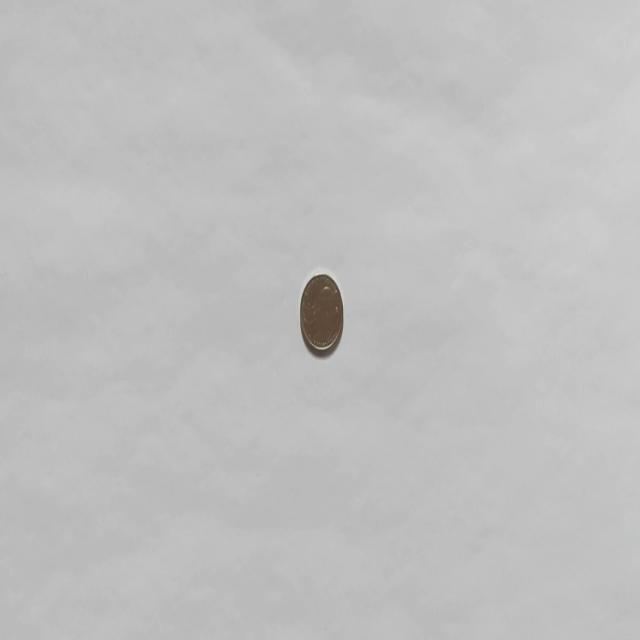seribu rupiah koin: (298, 268, 344, 356)
